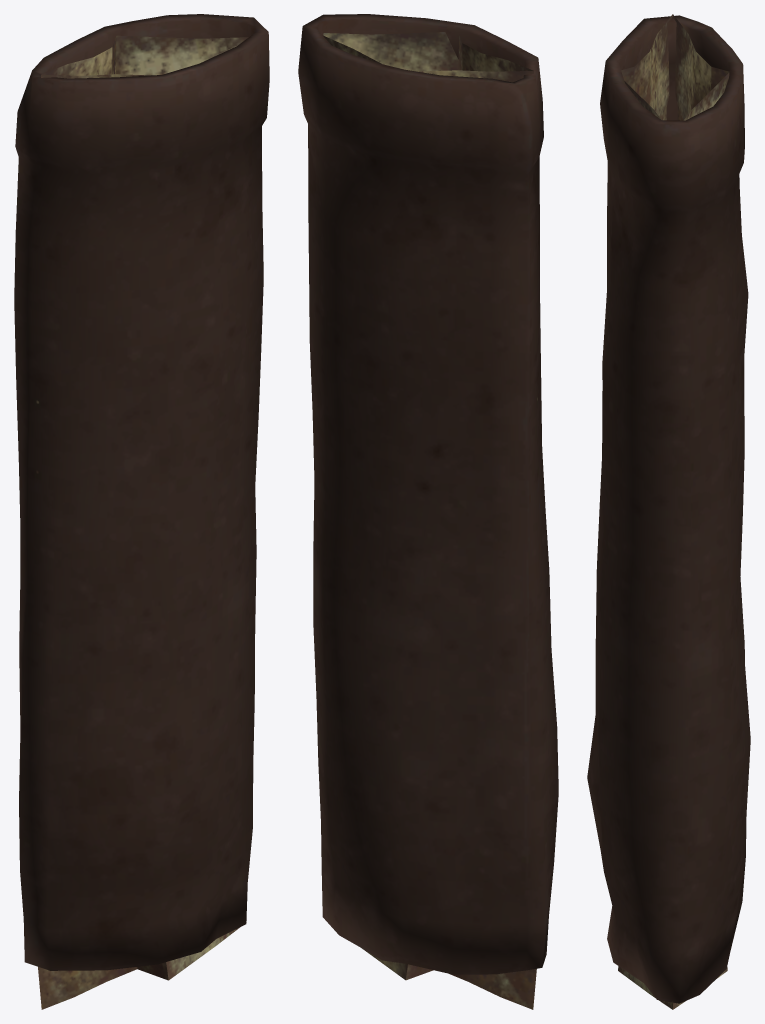
Rendered from easterling_sword_handle.fbx.
The picture shows the model from 3 angles, left to right: view 1: azimuth 30°, elevation 25°; view 2: azimuth 150°, elevation 25°; view 3: azimuth 270°, elevation 25°; orthographic projection.
Visible parts, largest first — view 1: easterling_sword_handle; view 2: easterling_sword_handle; view 3: easterling_sword_handle.
Part boxes in pixels (x1=…): easterling_sword_handle: x1=14, y1=14, x2=269, y2=1009; easterling_sword_handle: x1=298, y1=14, x2=558, y2=1009; easterling_sword_handle: x1=587, y1=14, x2=750, y2=1009.
Bounding box in the file's own units: 0.0634 × 0.0373 × 0.2347.
Materials: 1 (1 with a texture image).
